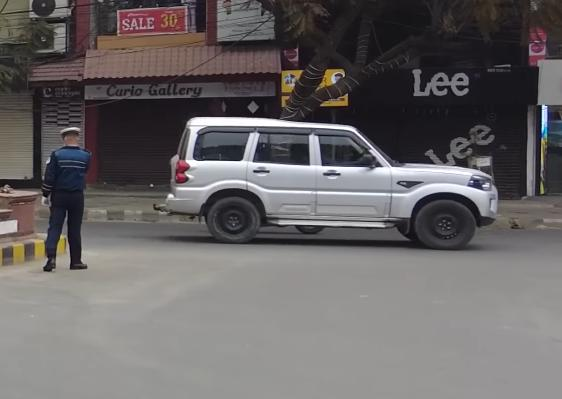SUV: (152, 104, 504, 258)
